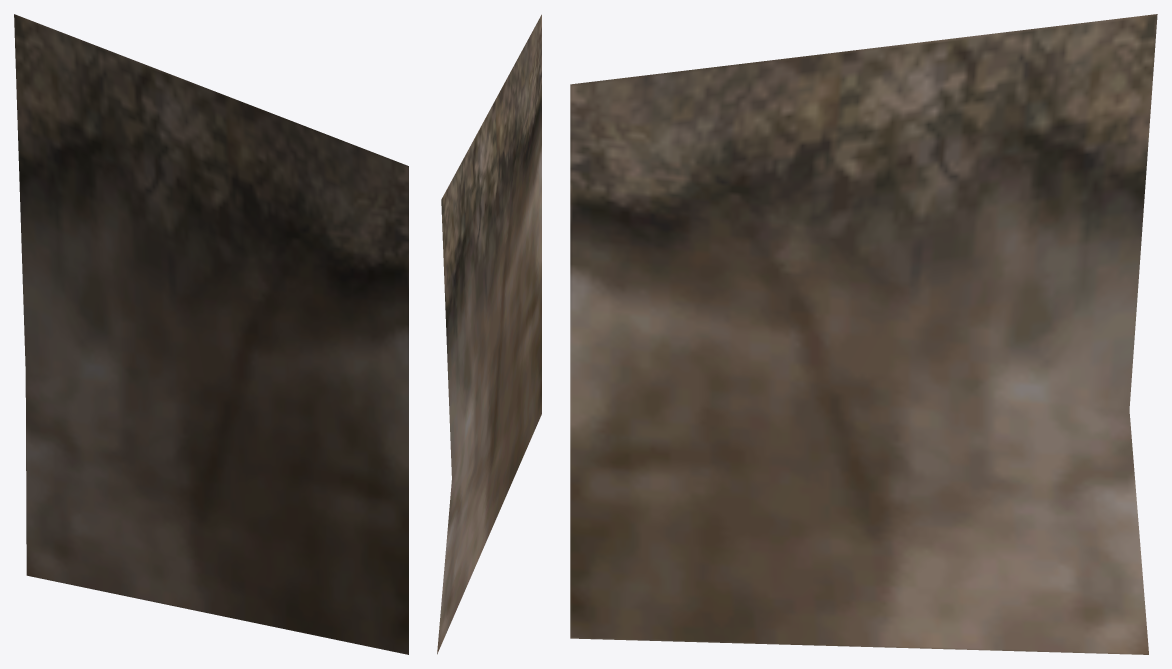
Rendered from OVERHILL_A_01_OBJECT61.fbx.
3 views of the same model, side by side, from view 1: azimuth 30°, elevation 25°; view 2: azimuth 150°, elevation 25°; view 3: azimuth 270°, elevation 25° (orthographic). The views are drawn at different scales.
Parts seen in each view (by area): view 1: OVERHILL_A_01_OBJECT61; view 2: OVERHILL_A_01_OBJECT61; view 3: OVERHILL_A_01_OBJECT61.
Part boxes in pixels (box(x1,y1,x2,y2)): OVERHILL_A_01_OBJECT61: box(14, 14, 408, 654); OVERHILL_A_01_OBJECT61: box(437, 14, 541, 654); OVERHILL_A_01_OBJECT61: box(570, 14, 1157, 654).
Size of the model in its own units: 3243 by 12822 by 10646.
Materials: 1 (1 with a texture image).
